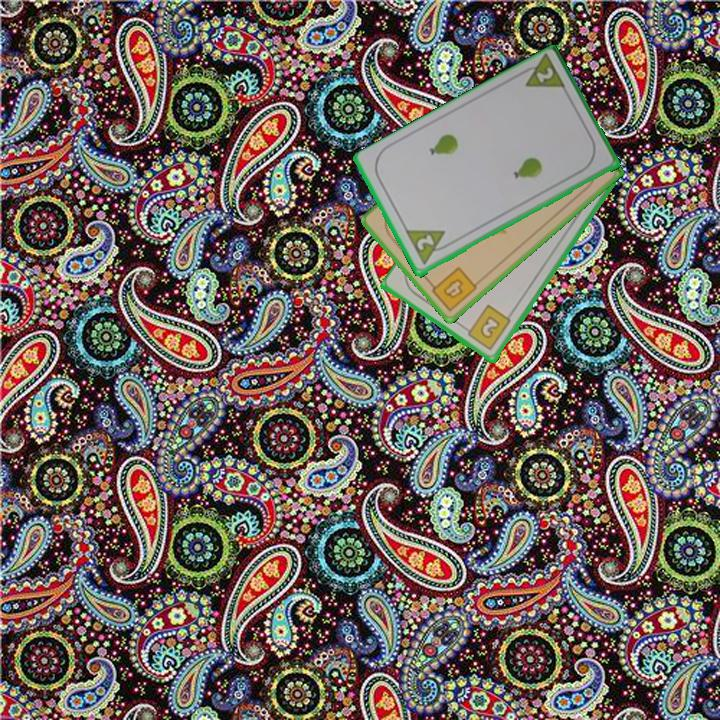2b: (460, 302, 514, 354)
2p: (514, 52, 569, 94), (402, 226, 454, 268)
4b: (425, 263, 480, 314)
